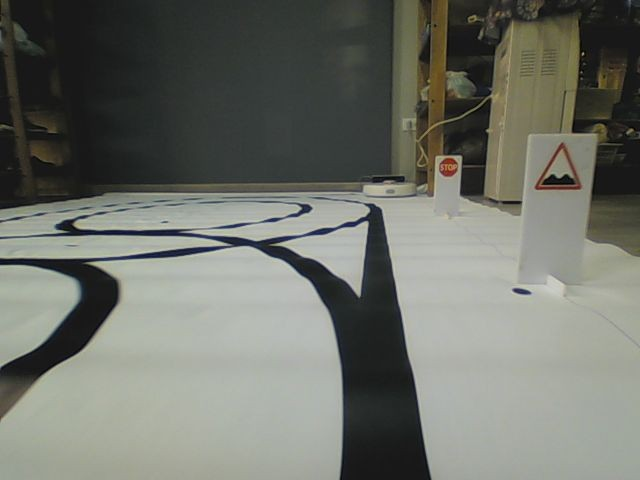Stop: (438, 156, 460, 178)
